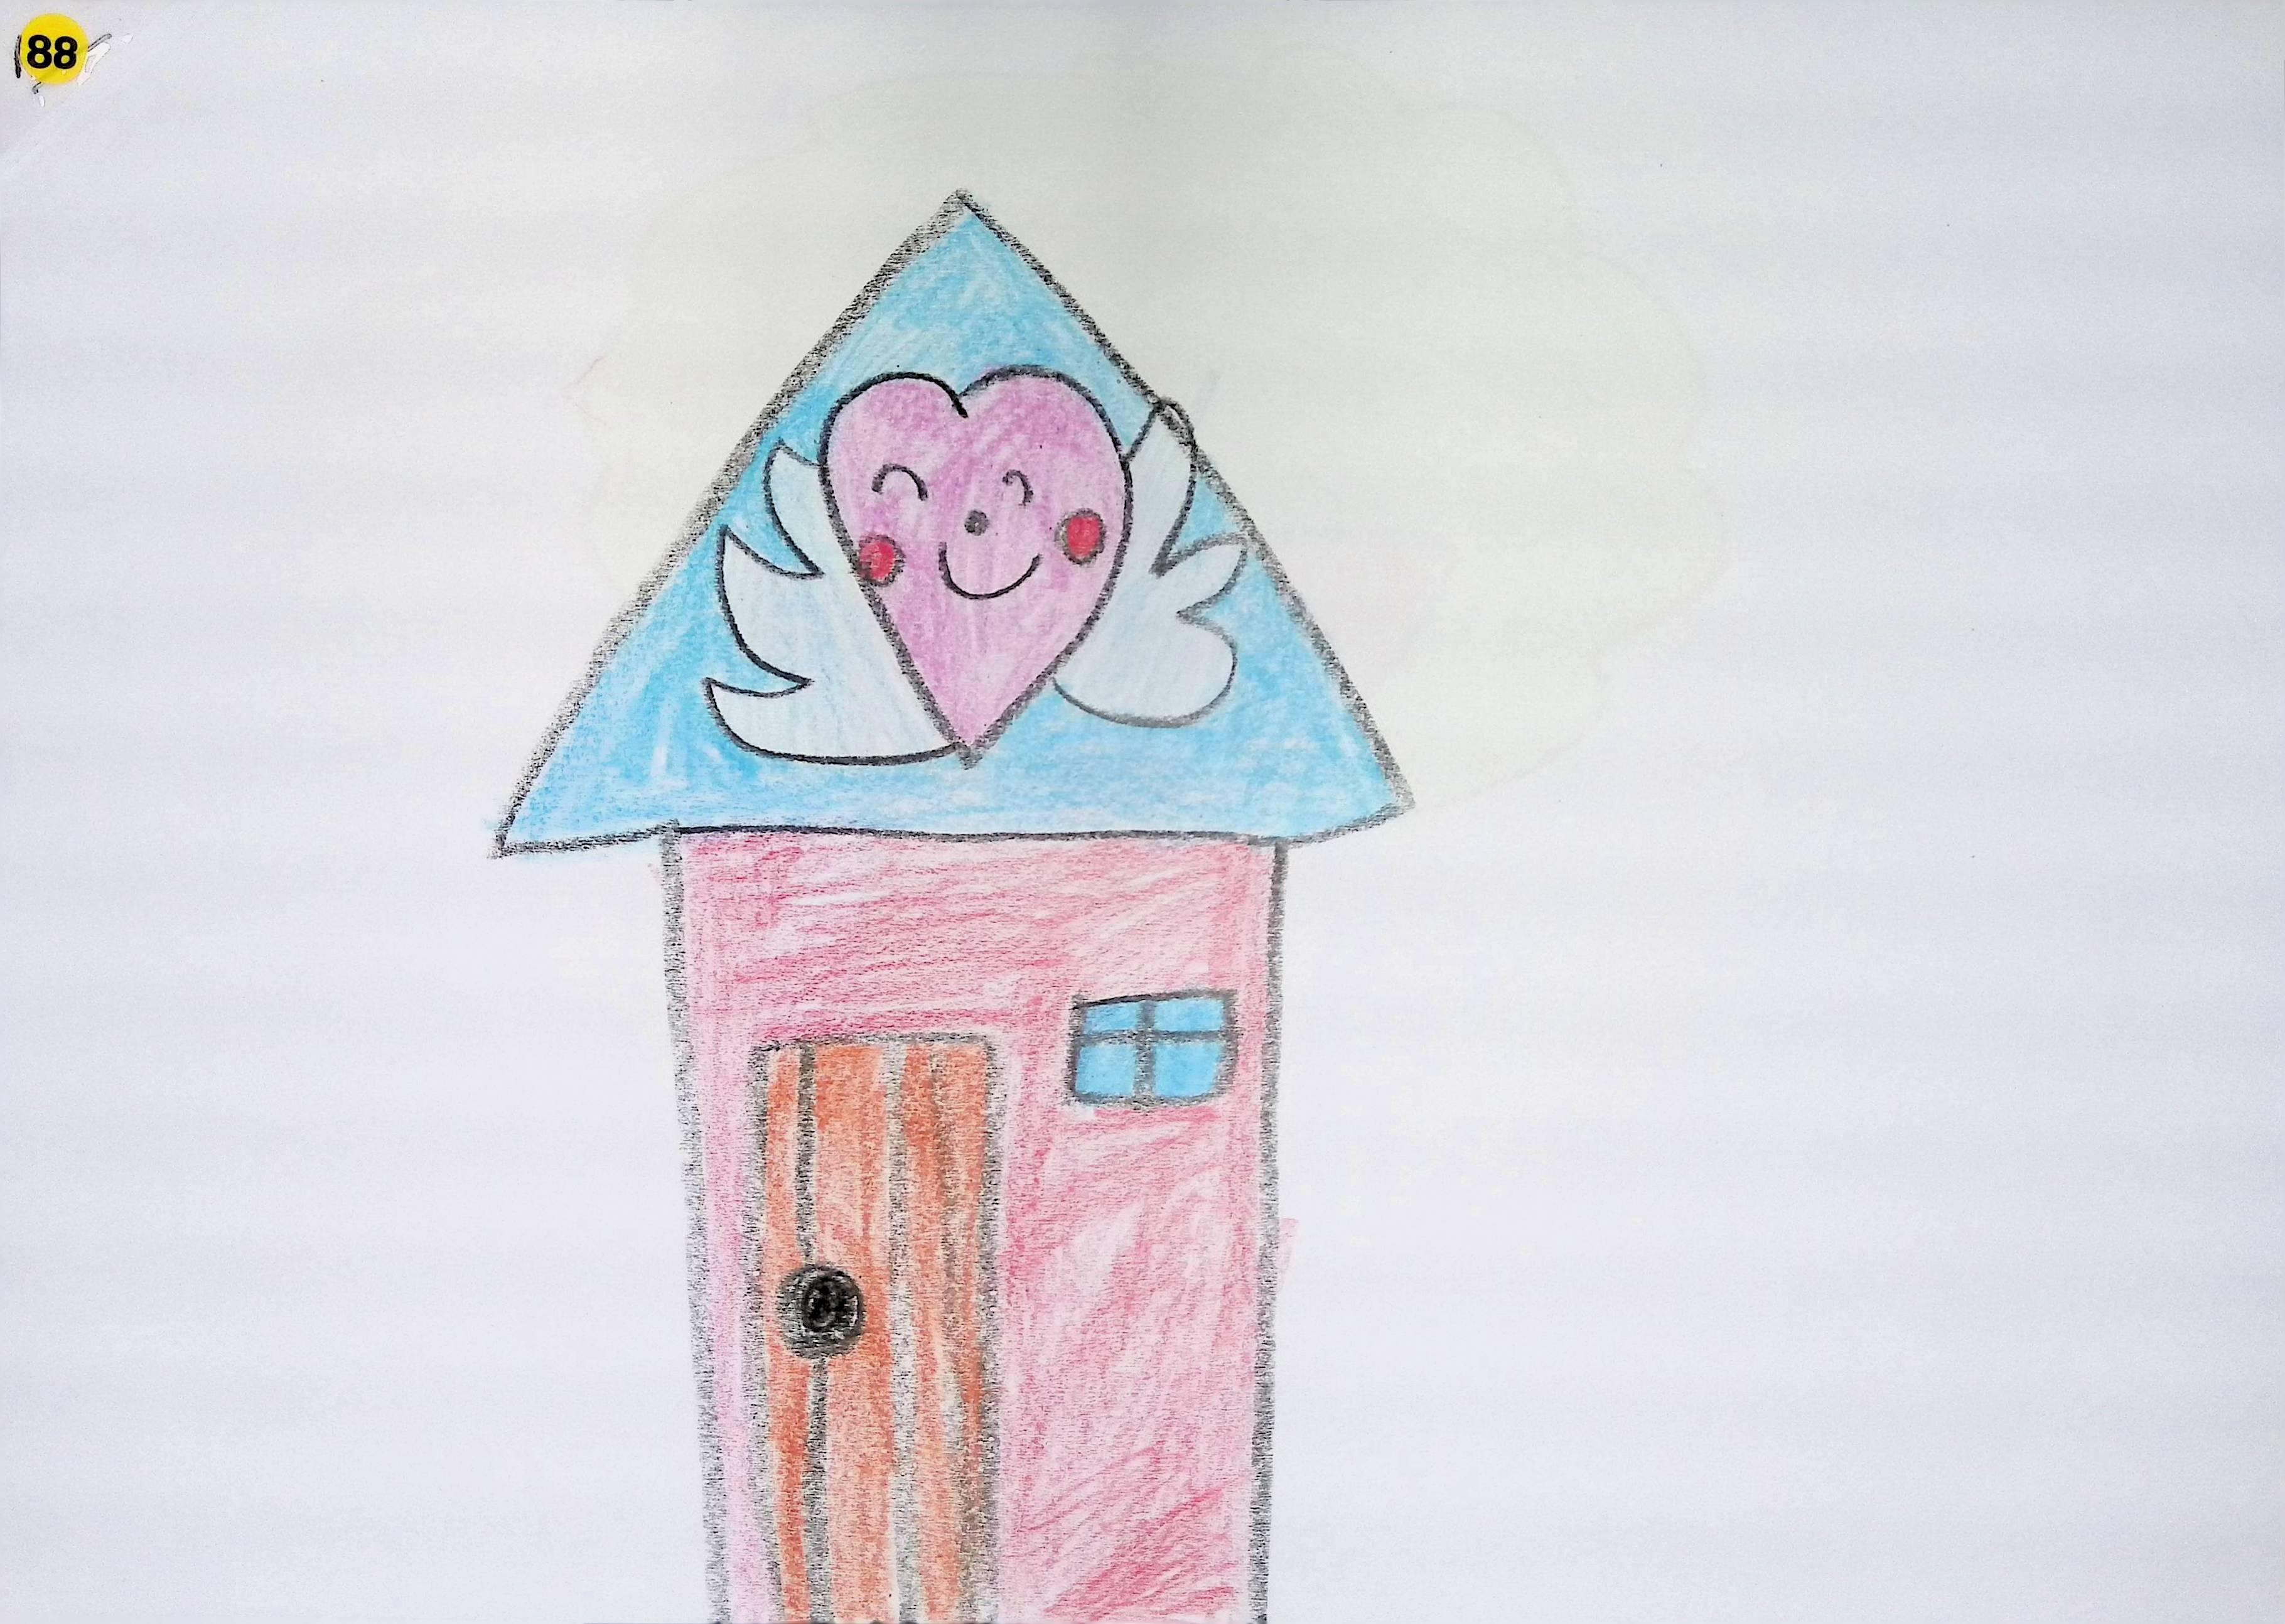door: (752, 1037, 991, 1624)
house: (496, 193, 1410, 1624)
roof: (497, 193, 1408, 851)
wall: (664, 830, 1281, 1624)
window: (1070, 993, 1234, 1106)
